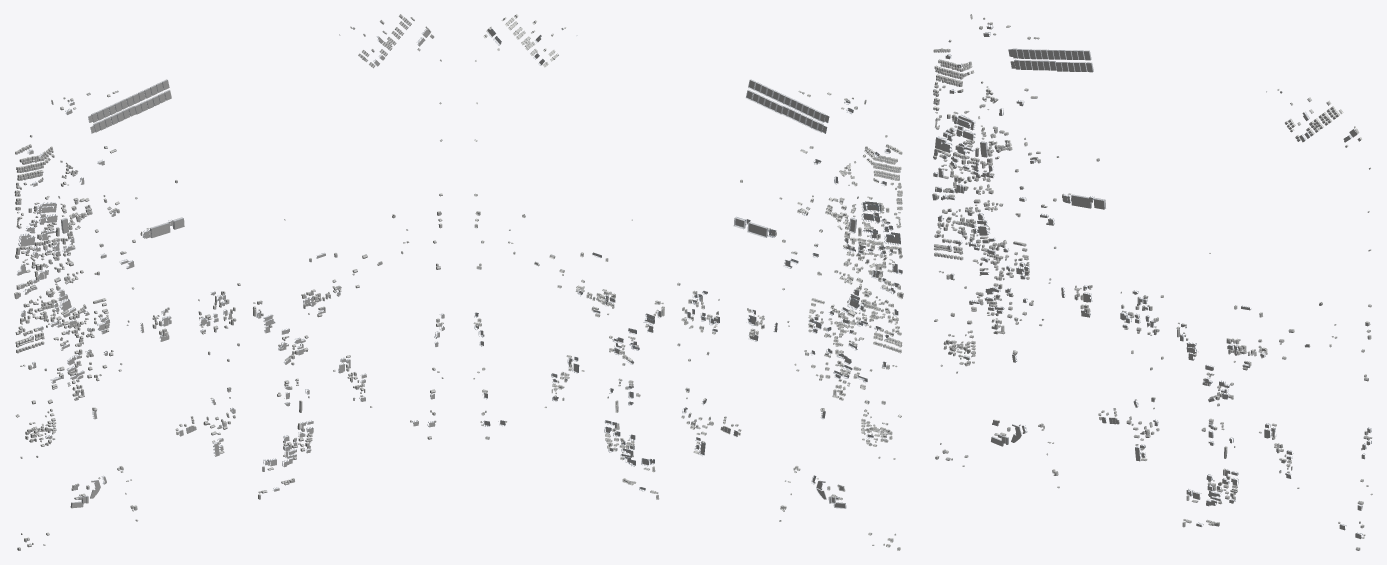
Rendered from buildings_0_0.obj.
The picture shows the model from 3 angles, left to right: view 1: azimuth 30°, elevation 25°; view 2: azimuth 150°, elevation 25°; view 3: azimuth 330°, elevation 25°; orthographic projection. The views are drawn at different scales.
Size of the model in its own units: 2009 by 2015 by 24.71.
Materials: 5 (5 with a texture image).
